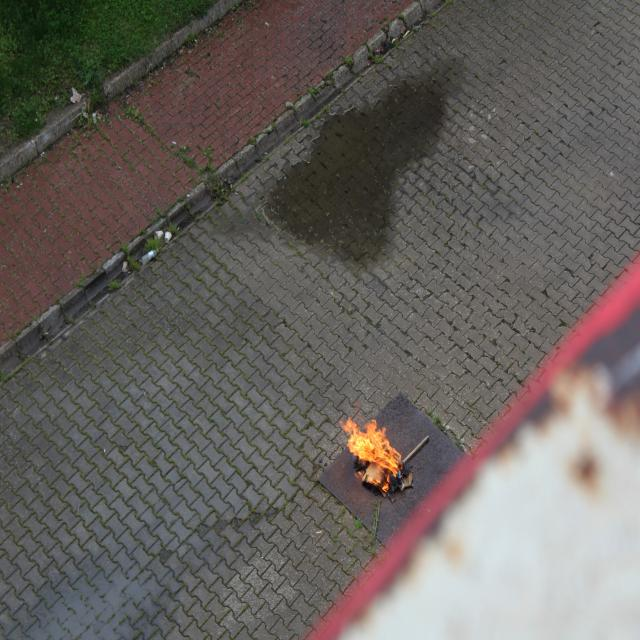fire: (338, 406, 408, 490)
